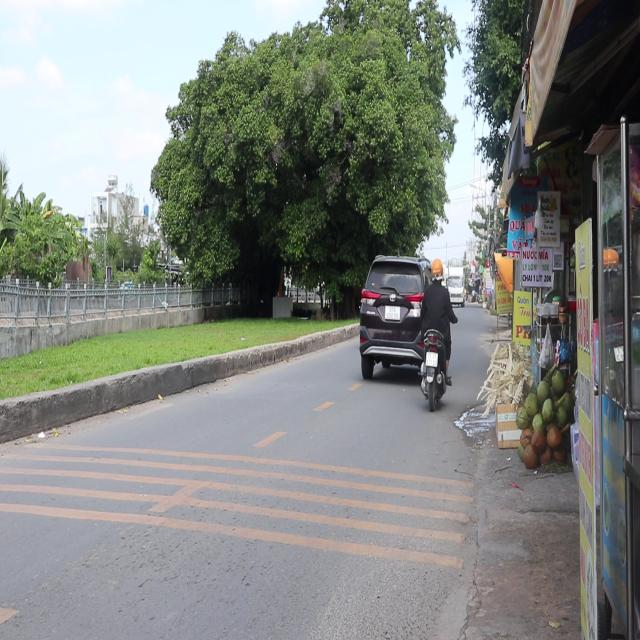helmet: (430, 256, 443, 281)
licenseplate: (416, 256, 455, 410)
nohelmet: (426, 350, 438, 365)
